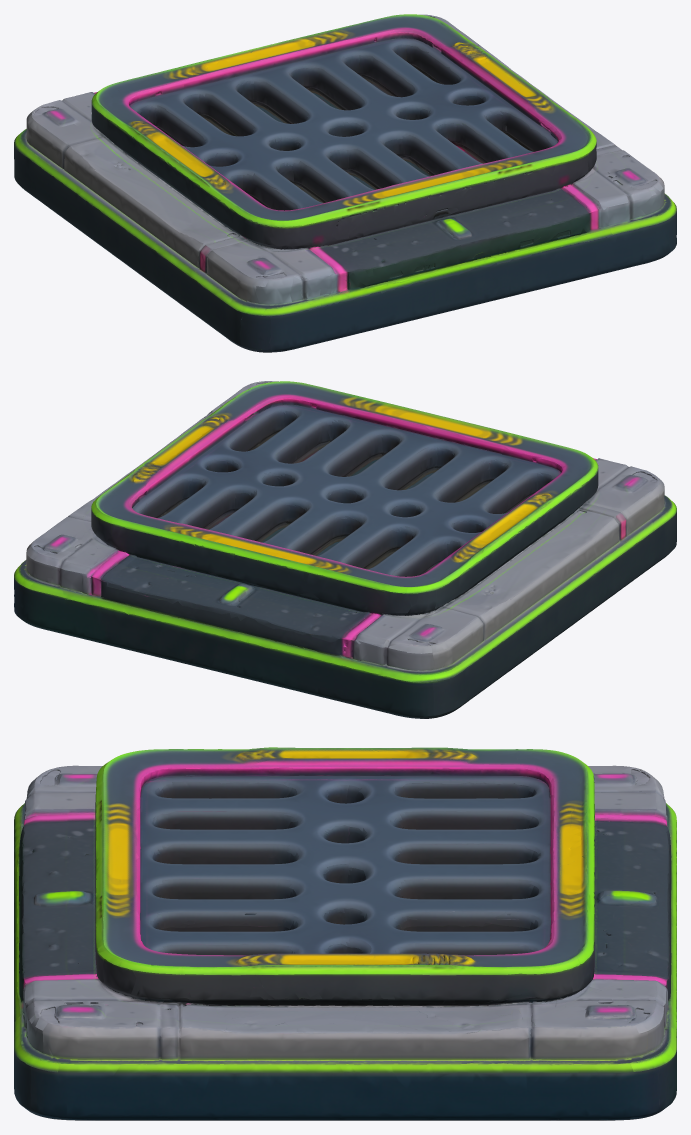
The model's file is u_ter_metal_grate.glb.
The picture shows the model from 3 angles, top to bottom: view 1: azimuth 30°, elevation 25°; view 2: azimuth 150°, elevation 25°; view 3: azimuth 270°, elevation 25°; orthographic projection. The views are drawn at different scales.
Visible parts, largest first — view 1: geometry_0; view 2: geometry_0; view 3: geometry_0.
Boxes of the visible parts, box(x1,y1,x2,y2) form: geometry_0: box(14, 14, 676, 352); geometry_0: box(14, 381, 676, 718); geometry_0: box(14, 747, 676, 1120).
Bounding box in the file's own units: 0.6 × 0.128 × 0.6021.
Materials: 1 (1 with a texture image).
